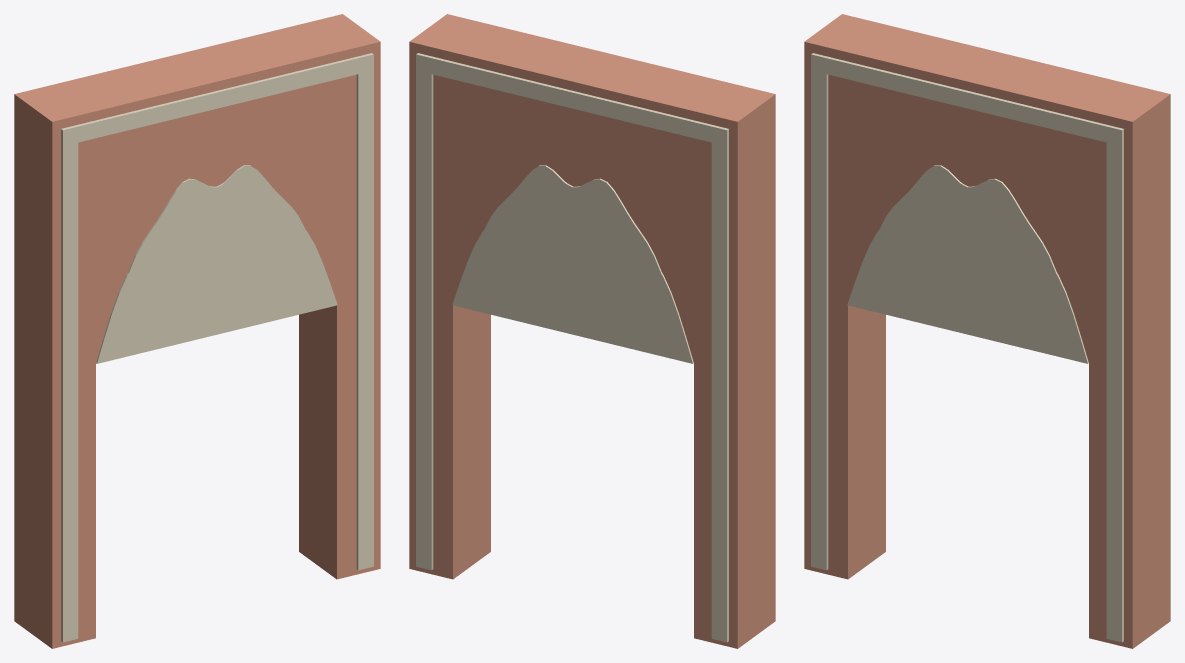
File: kit_arch_bay.glb
3 views of the same model, side by side, from view 1: azimuth 30°, elevation 25°; view 2: azimuth 150°, elevation 25°; view 3: azimuth 330°, elevation 25° (orthographic).
Parts seen in each view (by area): view 1: kit_arch_bay; view 2: kit_arch_bay; view 3: kit_arch_bay.
Part boxes in pixels (left/top/right/bottom): kit_arch_bay: left=14, top=14, right=380, bottom=648; kit_arch_bay: left=409, top=14, right=775, bottom=648; kit_arch_bay: left=804, top=14, right=1170, bottom=648.
Size of the model in its own units: 3 by 4.6 by 0.6598.
